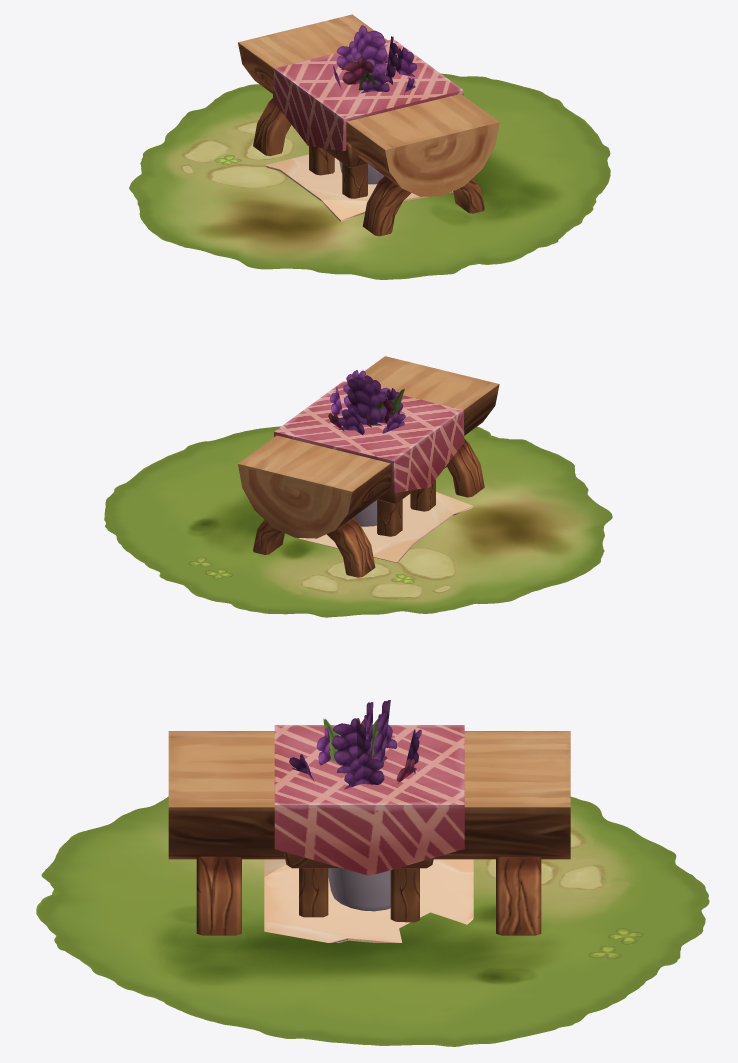
Rendered from bouquet making_for_unity.fbx.
3 renders of one model, top to bottom at view 1: azimuth 30°, elevation 25°; view 2: azimuth 150°, elevation 25°; view 3: azimuth 270°, elevation 25°, orthographic. The views are drawn at different scales.
Parts seen in each view (by area): view 1: ground, table, paper, flowers_all, chair, flowers_02_01; view 2: ground, table, paper, flowers_all, chair, flowers_02; view 3: ground, table, paper, flowers_all, chair, bucket, flowers_02.
Boxes of the visible parts, x1,y1,x2,y2 form: ground: (129,73,610,279); table: (238,14,499,236); paper: (264,154,453,221); flowers_all: (333,36,416,95); chair: (309,142,367,198); flowers_02_01: (355,32,387,84); ground: (104,426,612,617); table: (238,356,499,577); paper: (298,492,473,562); flowers_all: (328,370,405,435); chair: (377,463,448,536); flowers_02: (347,377,404,425); ground: (36,796,709,1046); table: (168,725,570,935); paper: (264,859,473,942); flowers_all: (289,718,421,811); chair: (284,852,433,922); bucket: (328,868,390,911); flowers_02: (323,700,390,764).
Size of the model in its own units: 362 by 124 by 362.
